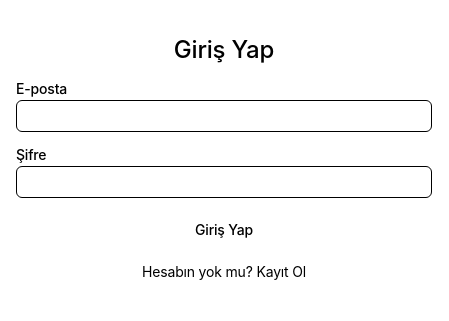
it: LoginPage › geçersiz email formatında hata göstermeli
The image size is (449, 321).
Type "gecersiz-email" into the field labelled "E-posta" at (224, 116), box x1=16 y1=100 x2=432 y2=132
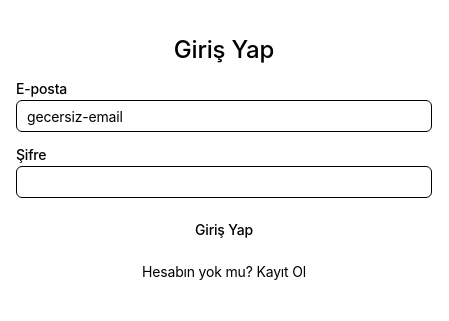
# HTML5 constraint validation'ı bypass edip doğrudan form'u submit et
Submit the form "E-posta Şifre Giriş Yap Hesabın yok mu? Kayıt Ol", box x1=16 y1=82 x2=432 y2=282
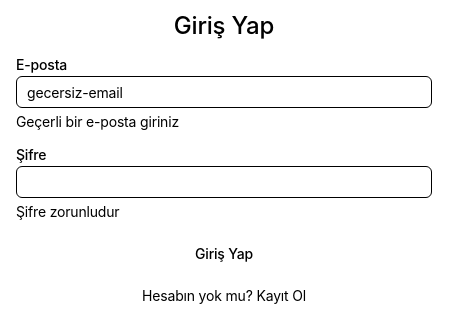
Check: the text "Geçerli bir e-posta giriniz" is shown, box x1=16 y1=113 x2=179 y2=130
